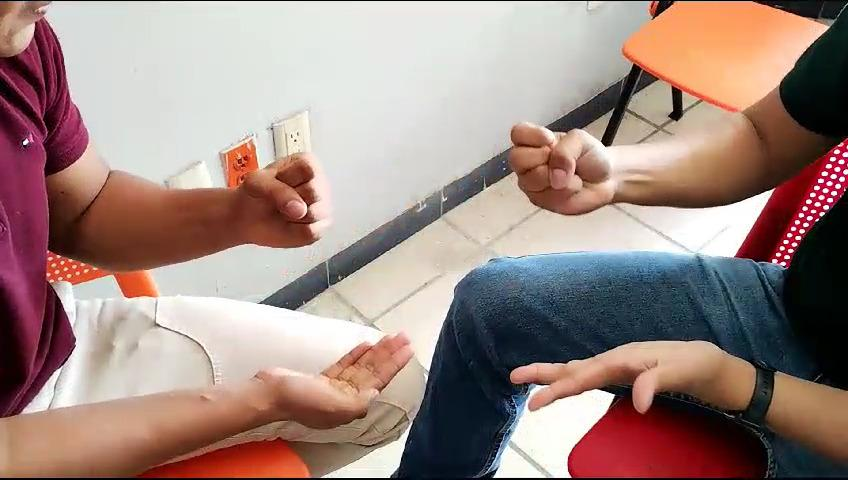Stone: (491, 105, 628, 230), (223, 151, 345, 262)
